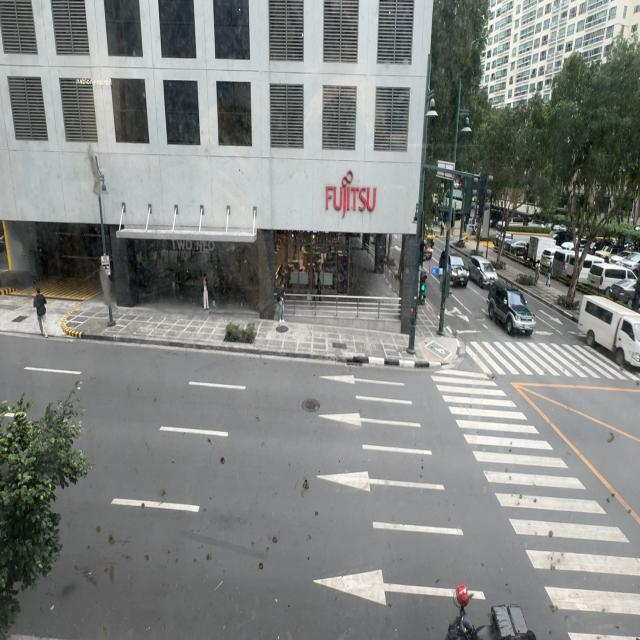jaywalking: (33, 287, 48, 338)
pedestrain: (202, 274, 210, 310), (278, 287, 285, 324), (316, 273, 322, 302), (534, 260, 540, 285), (546, 263, 552, 286)
